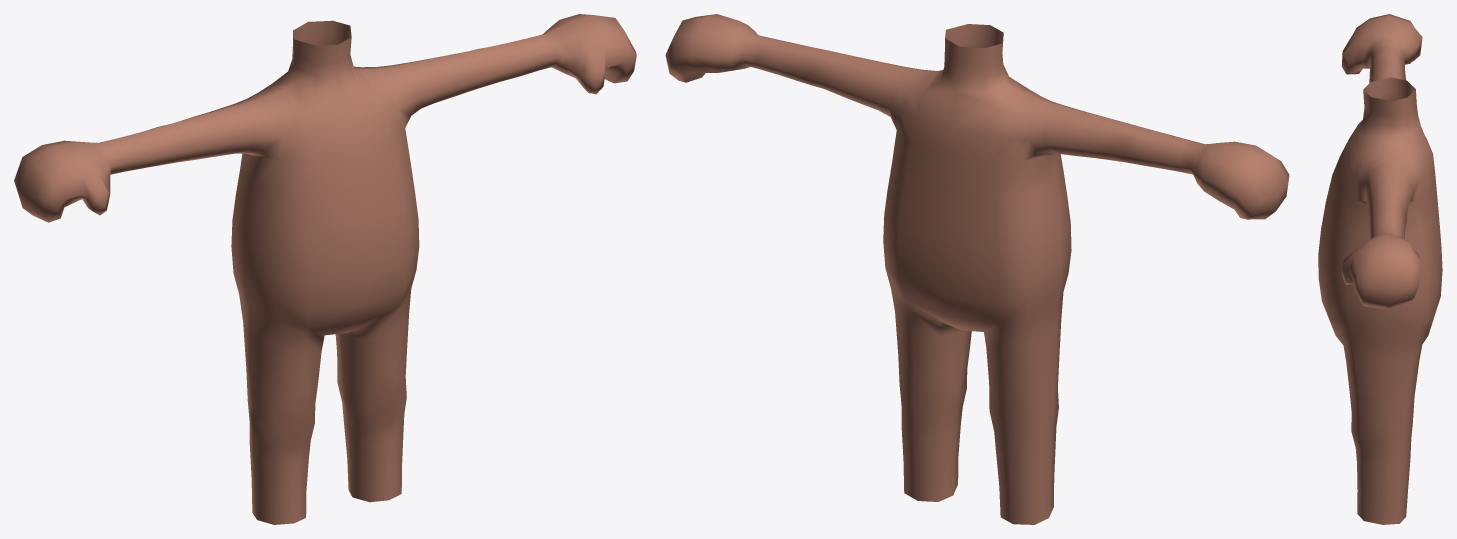
The model's file is Body_Brown_3.fbx.
3 renders of one model, left to right at view 1: azimuth 30°, elevation 25°; view 2: azimuth 150°, elevation 25°; view 3: azimuth 270°, elevation 25°, orthographic. The views are drawn at different scales.
Visible parts, largest first — view 1: Body_Brown_3; view 2: Body_Brown_3; view 3: Body_Brown_3.
Boxes of the visible parts, bbox=[...] form: Body_Brown_3: bbox=[14, 14, 636, 524]; Body_Brown_3: bbox=[665, 14, 1289, 524]; Body_Brown_3: bbox=[1318, 14, 1442, 524].
Size of the model in its own units: 130 by 95.87 by 26.46.
